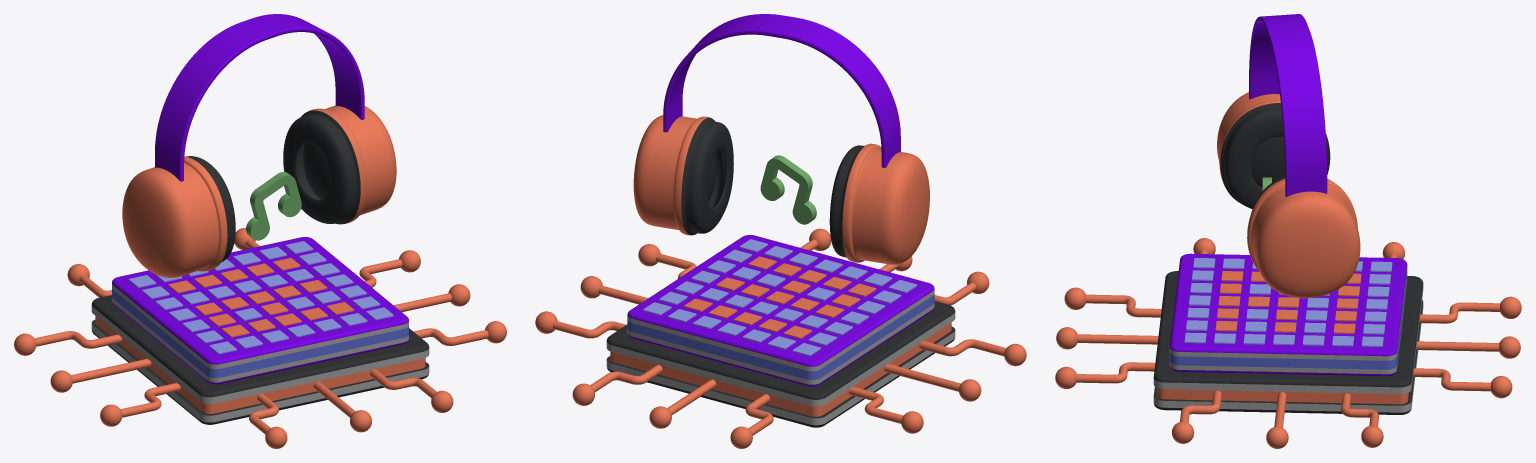
Rendered from ai-music-generator-3d-animated-icon-1294653233208.glb.
The picture shows the model from 3 angles, left to right: view 1: azimuth 30°, elevation 25°; view 2: azimuth 150°, elevation 25°; view 3: azimuth 270°, elevation 25°; orthographic projection.
Parts seen in each view (by area): view 1: Cube.003, Cube.001, Cube.002, Pin, Plane.002, Cube.005, Cube.004, Cube, Curve; view 2: Cube.003, Cube.001, Cube.002, Pin, Plane.002, Cube.005, Cube.004, Cube, Curve; view 3: Cube.003, Cube.001, Pin, Cube.002, Plane.002, Cube.005, Cube.004, Cube.
Part boxes in pixels (x1=…): Cube.003: x1=122, y1=105, x2=396, y2=277; Cube.001: x1=112, y1=237, x2=408, y2=384; Cube.002: x1=128, y1=241, x2=393, y2=354; Pin: x1=14, y1=228, x2=506, y2=448; Plane.002: x1=155, y1=14, x2=364, y2=181; Cube.005: x1=91, y1=295, x2=429, y2=424; Cube.004: x1=91, y1=305, x2=429, y2=422; Cube: x1=95, y1=316, x2=425, y2=413; Curve: x1=246, y1=172, x2=301, y2=240; Cube.003: x1=633, y1=115, x2=929, y2=264; Cube.001: x1=627, y1=235, x2=934, y2=386; Cube.002: x1=643, y1=239, x2=917, y2=356; Pin: x1=535, y1=228, x2=1026, y2=448; Plane.002: x1=663, y1=14, x2=900, y2=167; Cube.005: x1=606, y1=301, x2=955, y2=427; Cube.004: x1=606, y1=312, x2=955, y2=425; Cube: x1=610, y1=322, x2=951, y2=416; Curve: x1=760, y1=155, x2=816, y2=224; Cube.003: x1=1217, y1=92, x2=1360, y2=298; Cube.001: x1=1169, y1=253, x2=1407, y2=376; Pin: x1=1055, y1=238, x2=1521, y2=448; Cube.002: x1=1184, y1=258, x2=1392, y2=346; Plane.002: x1=1249, y1=14, x2=1327, y2=196; Cube.005: x1=1153, y1=271, x2=1423, y2=414; Cube.004: x1=1153, y1=284, x2=1423, y2=412; Cube: x1=1157, y1=388, x2=1408, y2=404.
Bounding box in the file's own units: 0.4978 × 0.3853 × 0.4928.
